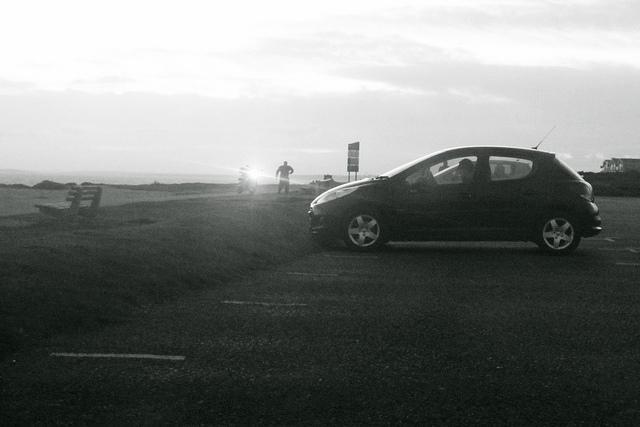car: (306, 145, 607, 252)
